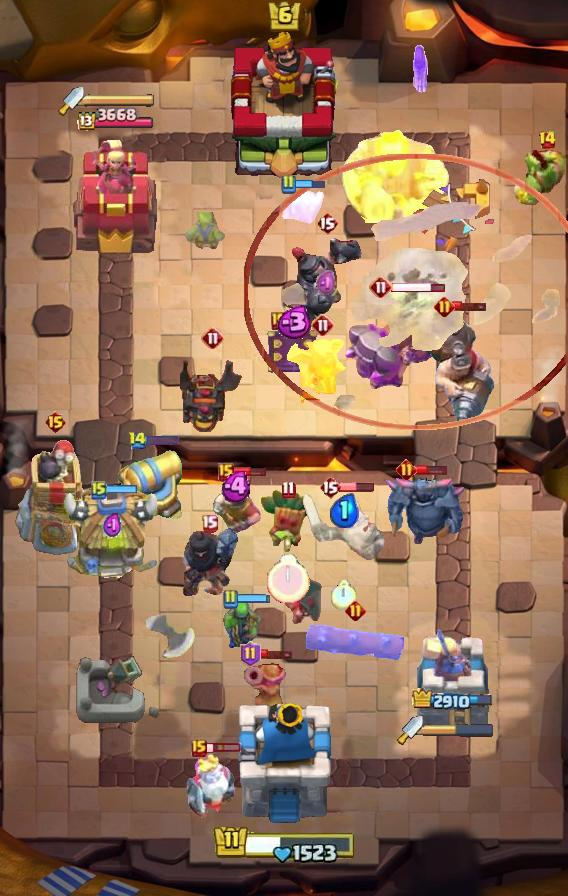archer-evolution: (180, 355, 246, 435)
bar: (70, 138, 158, 256), (414, 623, 492, 731)
bomb-tower: (244, 657, 286, 727)
clock: (212, 821, 356, 863)
earthquake: (211, 474, 263, 538)
electro-spirit: (272, 305, 313, 339), (221, 471, 255, 502), (329, 492, 359, 527), (316, 269, 338, 297), (102, 512, 122, 540)
elixir: (266, 554, 309, 604), (331, 580, 357, 610)
emote: (390, 282, 445, 295), (205, 742, 242, 754), (452, 300, 488, 312), (339, 481, 375, 493), (258, 648, 294, 660), (233, 466, 268, 478), (105, 484, 139, 496), (144, 434, 180, 445), (413, 464, 446, 476), (236, 593, 272, 604), (294, 178, 326, 189)
flying-machine: (512, 146, 568, 206)
furnace: (342, 290, 452, 392)
giant-skeleton: (340, 129, 450, 223)
giant-snowball: (222, 595, 262, 653)
goblin: (411, 45, 431, 95)
goblin-barrel: (259, 488, 317, 554)
golemite: (381, 474, 465, 546)
ice-spirit-evolution-symbol: (265, 326, 319, 376)
inferno-dragon: (179, 523, 239, 599)
king-tower: (222, 31, 346, 181), (235, 703, 333, 826)
king-tower-bar: (84, 93, 156, 107), (423, 723, 495, 737)
minion: (306, 625, 404, 661)
mirror: (280, 186, 326, 228)
mortar-evolution: (300, 492, 388, 572), (185, 753, 237, 821)
poison: (283, 332, 363, 404)
prince: (61, 487, 163, 583)
royal-ghost: (244, 154, 568, 430)
royal-giant: (139, 612, 195, 668)
royal-guardian: (288, 235, 366, 327)
royal-recruit: (114, 443, 186, 525)
selected: (413, 687, 496, 713), (75, 108, 153, 133)
tesla: (274, 575, 326, 627)
text: (369, 275, 393, 299), (311, 313, 335, 337), (201, 326, 225, 350), (45, 410, 68, 434), (240, 641, 261, 667), (316, 211, 338, 235), (319, 475, 341, 499), (433, 295, 454, 317), (396, 460, 417, 481), (346, 600, 367, 621), (539, 130, 558, 150), (129, 430, 148, 449), (201, 514, 218, 533), (280, 174, 296, 194), (91, 480, 107, 500), (222, 589, 238, 609), (271, 312, 287, 330), (218, 463, 234, 481), (191, 739, 207, 757), (280, 481, 295, 499)
wizard: (416, 308, 496, 428)
zap: (185, 212, 229, 254)
zappy: (14, 438, 99, 560)
